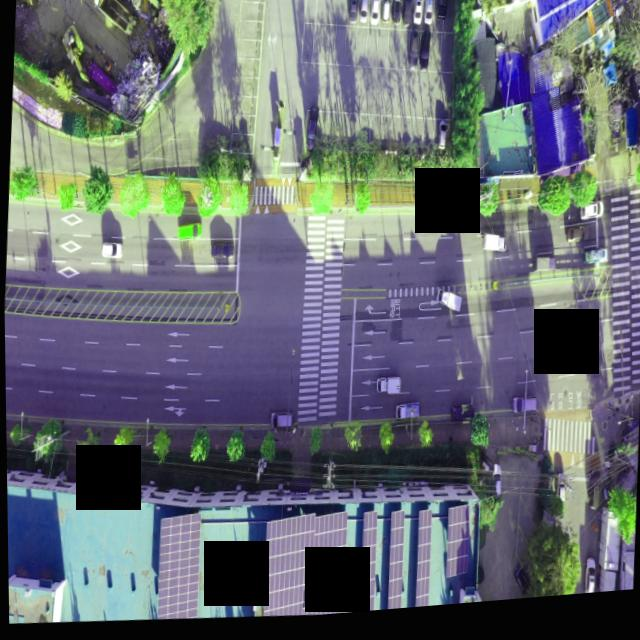car: (174, 224, 201, 246), (419, 35, 432, 78), (511, 401, 537, 422), (306, 116, 318, 157), (513, 573, 528, 605), (586, 478, 597, 519), (210, 245, 235, 263), (423, 0, 436, 34), (490, 470, 502, 505), (579, 211, 601, 230), (271, 416, 294, 434), (101, 244, 123, 262), (413, 0, 425, 33), (402, 0, 414, 33), (584, 565, 594, 603), (409, 39, 419, 75), (393, 0, 404, 31), (565, 236, 586, 252), (371, 0, 381, 33), (380, 0, 391, 30), (437, 126, 447, 156), (438, 0, 448, 28), (360, 0, 370, 28), (350, 0, 361, 25), (556, 484, 565, 512)
medium_truck: (92, 0, 142, 41)
small_truck: (437, 294, 463, 321), (482, 241, 507, 263), (393, 406, 418, 427), (450, 407, 474, 428), (376, 382, 401, 402), (534, 260, 559, 280), (584, 256, 609, 274)
